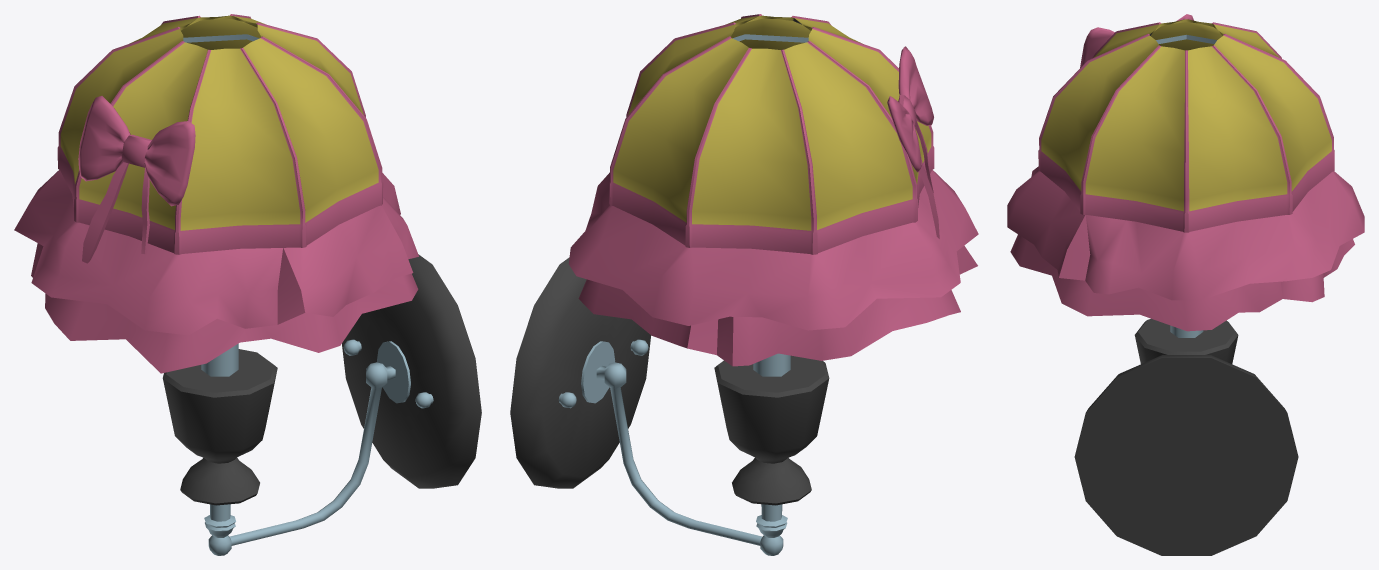
The model's file is LightSide03.FBX.
3 views of the same model, side by side, from view 1: azimuth 30°, elevation 25°; view 2: azimuth 150°, elevation 25°; view 3: azimuth 270°, elevation 25° (orthographic). The views are drawn at different scales.
Visible parts, largest first — view 1: LightSide03; view 2: LightSide03; view 3: LightSide03.
Part boxes in pixels (x1,y1,x2,y2): LightSide03: [14, 14, 481, 555]; LightSide03: [510, 14, 978, 555]; LightSide03: [1007, 14, 1364, 555].
Size of the model in its own units: 37.92 by 35.27 by 50.05.
